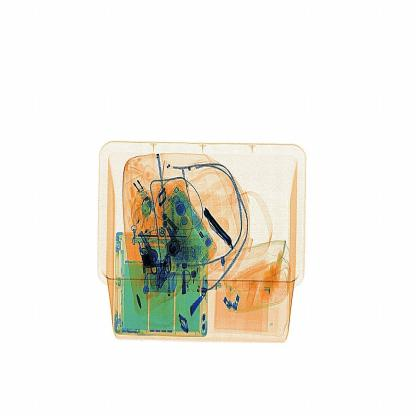knife: (203, 208, 235, 254)
